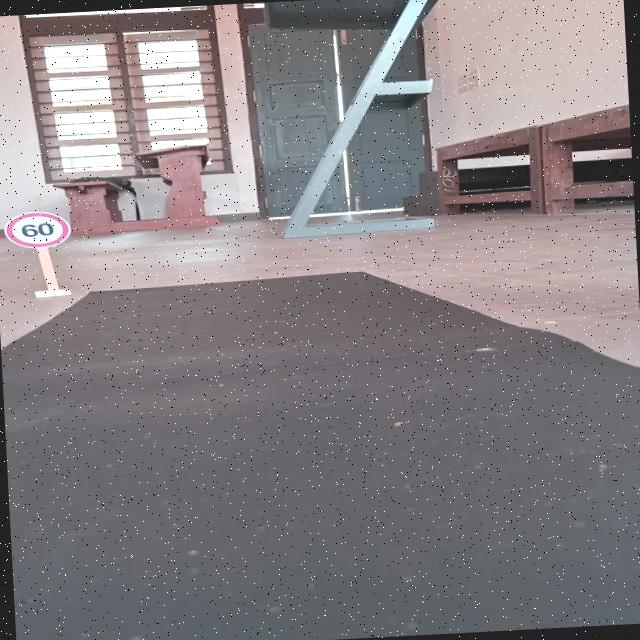Speed60: (1, 208, 74, 252)
